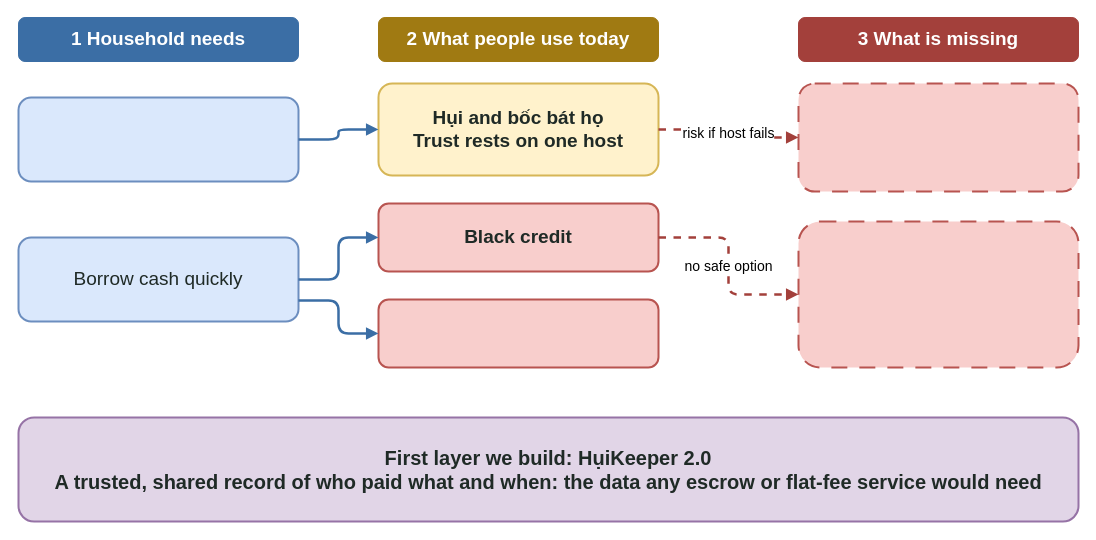
The diagram is 1096 pixels wide and 540 high, and some of its shapes have lost their labels. Each missing label, with the box of its shape:
No channel that turns a credit-card limit into a predictable flat-fee cost: (797, 220, 1079, 368)
No neutral intermediary that freezes the pot fairly (escrow): (797, 82, 1079, 192)
Pawnshops: (377, 298, 659, 368)
Save towards a lump sum: (17, 96, 299, 182)
